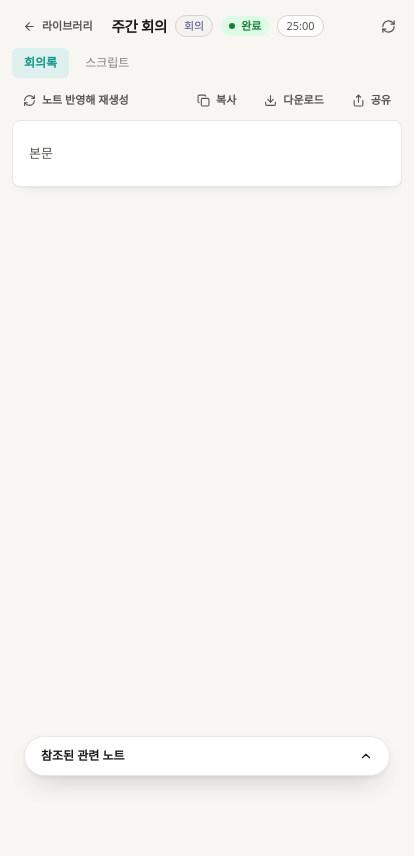
Test: 재생성 — 회의록·요약 탭에서만, 접힘이 기본 › 스크립트 탭에는 재생성을 두지 않는다(원본과 같은 범위)
Step 1. Click the tab "스크립트" → (107, 63), box [73,48,141,78]
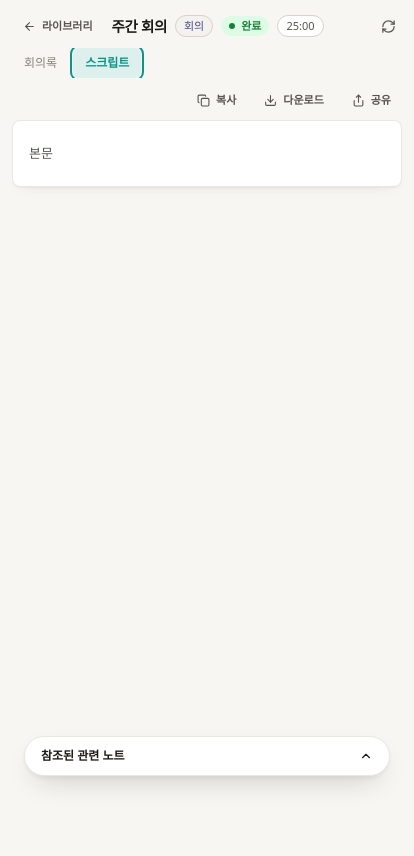
Expected: the button "노트 반영해 재생성" is gone
